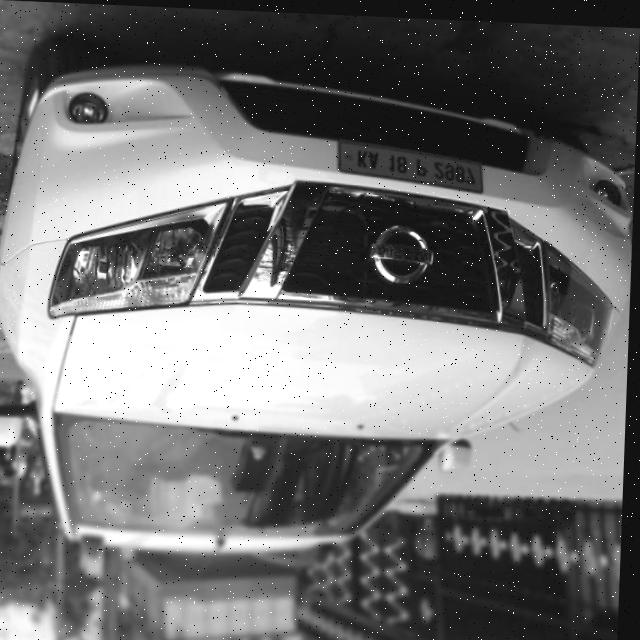plate: (335, 138, 486, 191)
